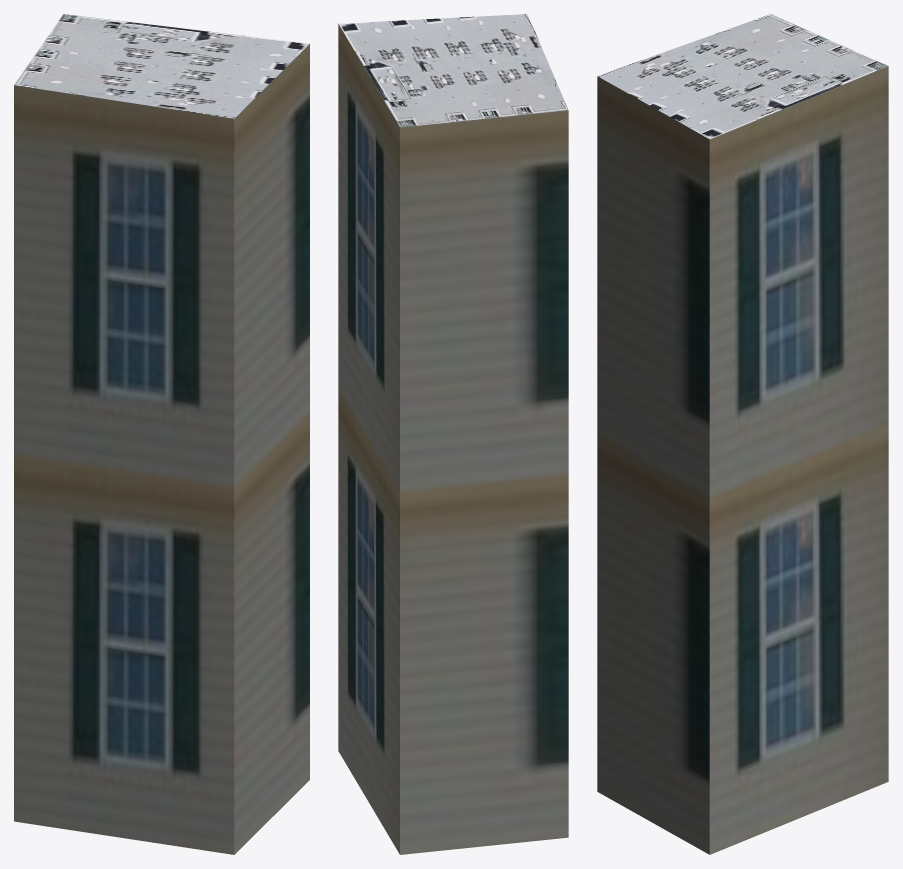
Rendered from ResTex__1602.fbx.
3 renders of one model, left to right at view 1: azimuth 30°, elevation 25°; view 2: azimuth 150°, elevation 25°; view 3: azimuth 270°, elevation 25°, orthographic. The views are drawn at different scales.
Visible parts, largest first — view 1: CityEngineMaterial_7_m, CityEngineMaterial_2_m; view 2: CityEngineMaterial_7_m, CityEngineMaterial_2_m; view 3: CityEngineMaterial_7_m, CityEngineMaterial_2_m.
Part boxes in pixels (x1,y1,x2,y2): CityEngineMaterial_7_m: (14,44,309,854); CityEngineMaterial_2_m: (14,14,309,118); CityEngineMaterial_7_m: (338,24,568,854); CityEngineMaterial_2_m: (339,14,568,127); CityEngineMaterial_7_m: (597,66,888,854); CityEngineMaterial_2_m: (597,14,888,139).
Bounding box in the file's own units: 2.25 × 6 × 2.22.
Materials: 2 (2 with a texture image).
